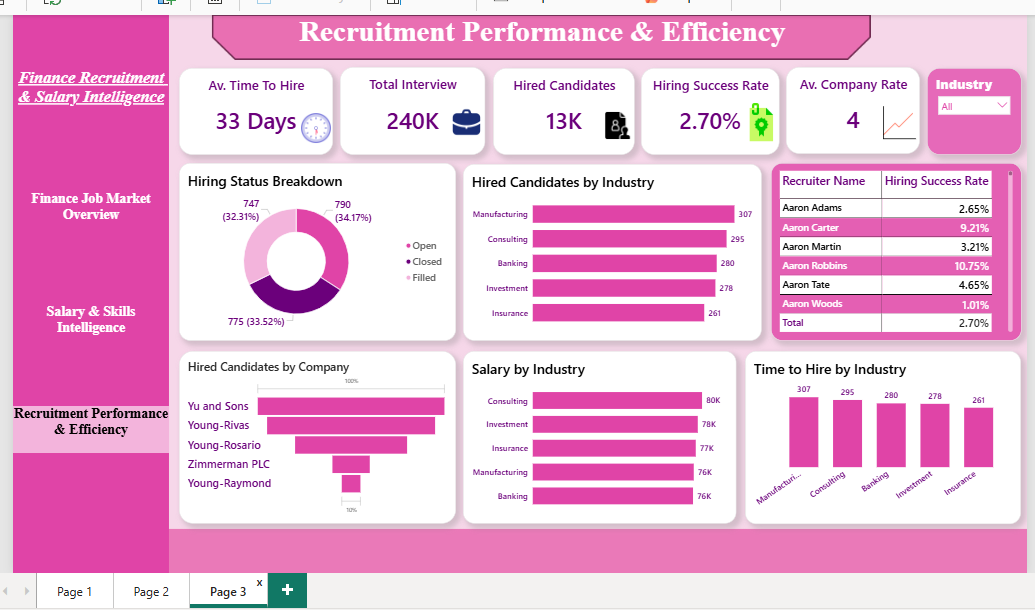

The page's visual inventory and layout, read from the dashboard file:
{"tool":"powerbi","page":{"name":"Page 3","canvas":[1962,1080],"ordinal":2},"visuals":[{"type":"card","title":"Av. Time To Hire","fields":{"Values":["Finance Dataset.Av.time to hire","select"]},"box":[321,102,297.6,168],"z":0},{"type":"card","title":"Hired Candidates","fields":{"Values":["Finance Dataset.Total Hired Candidate"]},"box":[929.1,102,274.3,168],"z":1000},{"type":"card","title":"Hiring Success Rate","fields":{"Values":["Finance Dataset.Hiring Success Rate"]},"box":[1216.1,102,267.9,168],"z":2000},{"type":"card","title":"Av. Company Rate","fields":{"Values":["Finance Dataset.Av. Company Rating"]},"box":[1496.7,99.9,259.4,170.1],"z":3000},{"type":"card","title":"Total Interview","fields":{"Values":["Finance Dataset.Total Interview"]},"box":[633.5,99.9,280.6,170.1],"z":4000},{"type":"donutChart","title":"Hiring Status Breakdown","fields":{"Category":["Finance Dataset.Hiring Status"],"Y":["CountNonNull(Finance Dataset.Job ID)"]},"box":[321,287,535.7,344.4],"z":5000},{"type":"columnChart","title":" Time to Hire by Industry","fields":{"Y":["CountNonNull(Finance Dataset.Time to Hire)"],"Category":["Finance Dataset.Industry"]},"box":[1416.8,650.3,534.2,334.8],"z":6000},{"type":"funnel","title":" Hired Candidates by Company","fields":{"Category":["Finance Dataset.Company Name"],"Y":["Sum(Finance Dataset.Hired Candidates)"]},"box":[321,650.6,535.7,333.8],"z":7000},{"type":"barChart","title":"Hired Candidates by Industry","fields":{"Category":["Finance Dataset.Industry"],"Y":["CountNonNull(Finance Dataset.Hired Candidates)"]},"box":[871.7,289.1,578.3,342.3],"z":8000},{"type":"barChart","title":" Salary by Industry","fields":{"Category":["Finance Dataset.Industry"],"Y":["Avg(Finance Dataset.Salary midpoint)"]},"box":[871.7,650.6,529.4,333.8],"z":9000},{"type":"pivotTable","fields":{"Rows":["Finance Dataset.Recruiter Name"],"Values":["Finance Dataset.Hiring Success Rate"]},"box":[1466.9,287,484.7,344.4],"z":10000},{"type":"slicer","title":"Industry","fields":{"Values":["Finance Dataset.Industry"]},"box":[1768.8,102,182.8,168],"z":11000},{"type":"shape","box":[0,0,301.9,1080],"z":12000},{"type":"textbox","box":[0,102,301.9,85],"z":13000},{"type":"textbox","box":[438,0,1173.5,78.7],"z":14000},{"type":"image","box":[1136.1,183.9,67.7,60],"z":15000},{"type":"image","box":[849.7,172.3,56.1,69.7],"z":16000},{"type":"image","box":[1709.3,170.1,38.3,76.5],"z":17000},{"type":"image","box":[565.5,180.7,46.8,63.8],"z":18000},{"type":"actionButton","box":[0,316.8,301.9,87.2],"z":19000},{"type":"actionButton","box":[0,501.7,301.9,74.4],"z":20000},{"type":"actionButton","box":[0,735.6,301.9,106.3],"z":21000},{"type":"image","box":[1430.8,182.8,42.5,65.9],"z":22000}]}

Visuals, with their boxes on the page's 1962x1080 design canvas (x1, y1, x2, y2). These are canvas units, not pixel positions in the 1035x610 screenshot, which may show the page scaled, cropped or inside an application window:
"Av. Time To Hire" card: box=[321, 102, 619, 270]
"Hired Candidates" card: box=[929, 102, 1203, 270]
"Hiring Success Rate" card: box=[1216, 102, 1484, 270]
"Av. Company Rate" card: box=[1497, 100, 1756, 270]
"Total Interview" card: box=[634, 100, 914, 270]
"Hiring Status Breakdown" donutChart: box=[321, 287, 857, 631]
" Time to Hire by Industry" columnChart: box=[1417, 650, 1951, 985]
" Hired Candidates by Company" funnel: box=[321, 651, 857, 984]
"Hired Candidates by Industry" barChart: box=[872, 289, 1450, 631]
" Salary by Industry" barChart: box=[872, 651, 1401, 984]
pivotTable - Finance Dataset.Recruiter Name x Finance Dataset.Hiring Success Rate: box=[1467, 287, 1952, 631]
"Industry" slicer: box=[1769, 102, 1952, 270]
shape: box=[0, 0, 302, 1080]
textbox: box=[0, 102, 302, 187]
textbox: box=[438, 0, 1612, 79]
image: box=[1136, 184, 1204, 244]
image: box=[850, 172, 906, 242]
image: box=[1709, 170, 1748, 247]
image: box=[566, 181, 612, 244]
actionButton: box=[0, 317, 302, 404]
actionButton: box=[0, 502, 302, 576]
actionButton: box=[0, 736, 302, 842]
image: box=[1431, 183, 1473, 249]
